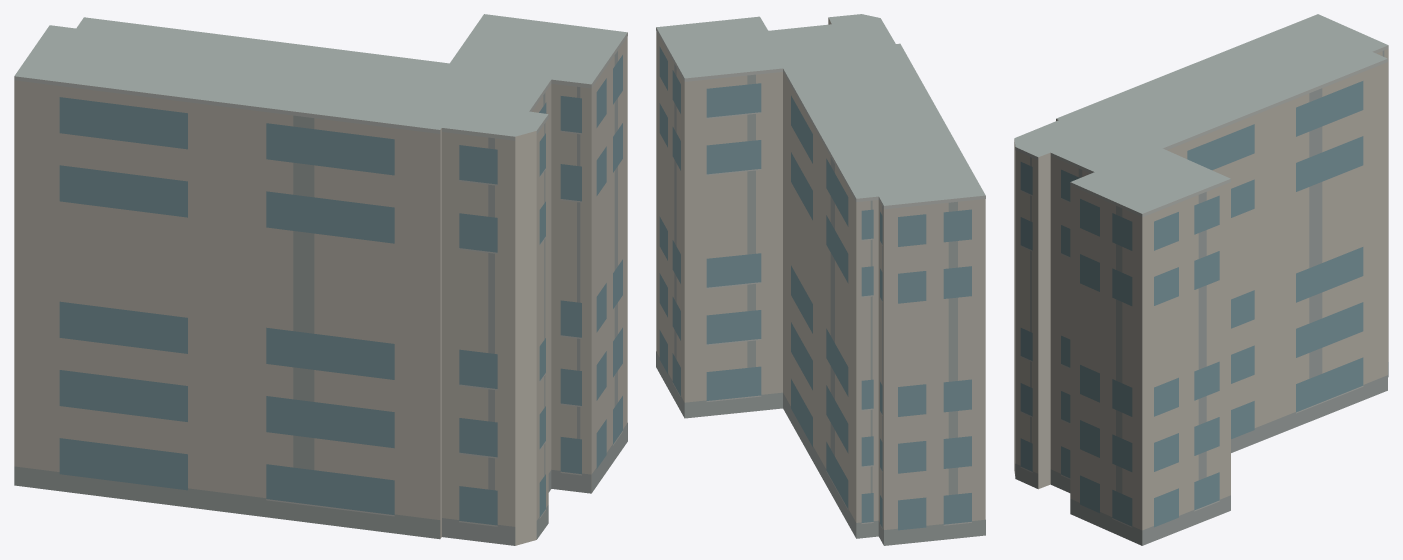
The model's file is survey-upis-33046544.glb.
The picture shows the model from 3 angles, left to right: view 1: azimuth 30°, elevation 25°; view 2: azimuth 150°, elevation 25°; view 3: azimuth 270°, elevation 25°; orthographic projection. The views are drawn at different scales.
Parts seen in each view (by area): view 1: survey-upis-33046544.tmp; view 2: survey-upis-33046544.tmp; view 3: survey-upis-33046544.tmp.
Part boxes in pixels (box(x1,y1,x2,y2)): survey-upis-33046544.tmp: box(14, 14, 627, 545); survey-upis-33046544.tmp: box(656, 14, 985, 545); survey-upis-33046544.tmp: box(1014, 14, 1388, 545).
Bounding box in the file's own units: 31.66 × 24.5 × 25.05.
